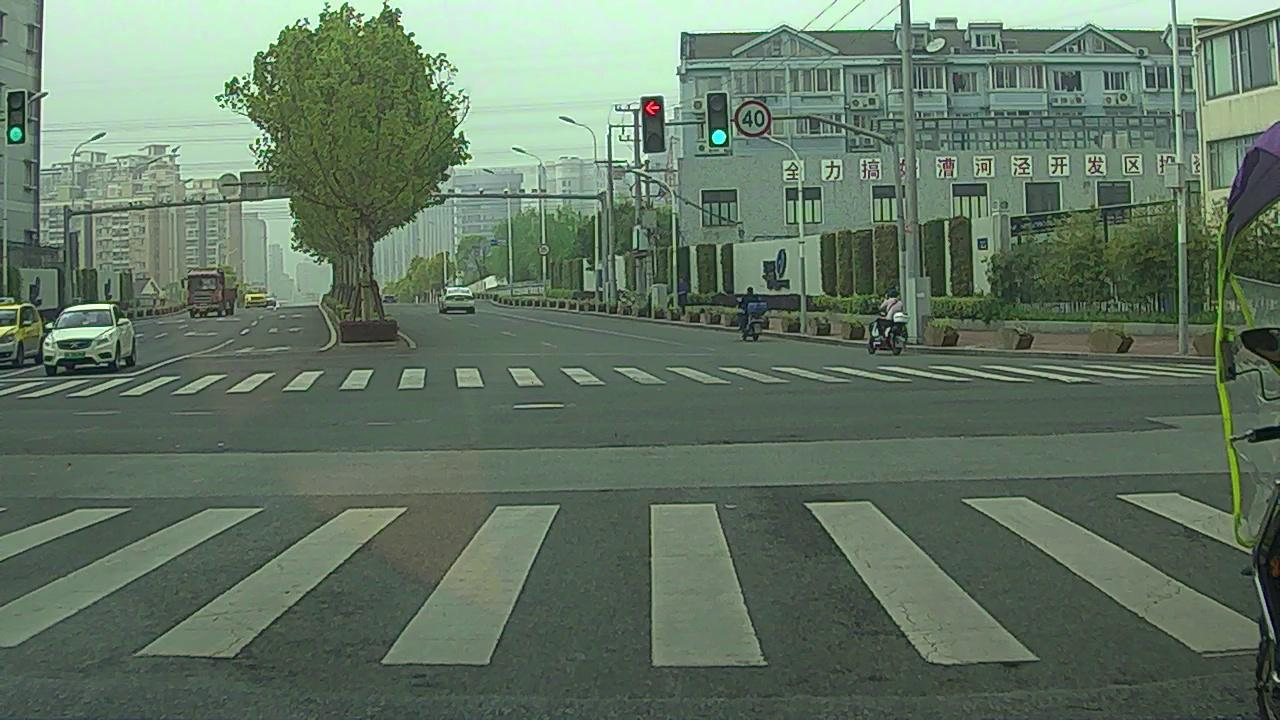traffic_light: (641, 97, 665, 152), (709, 90, 730, 148), (11, 91, 28, 144)
